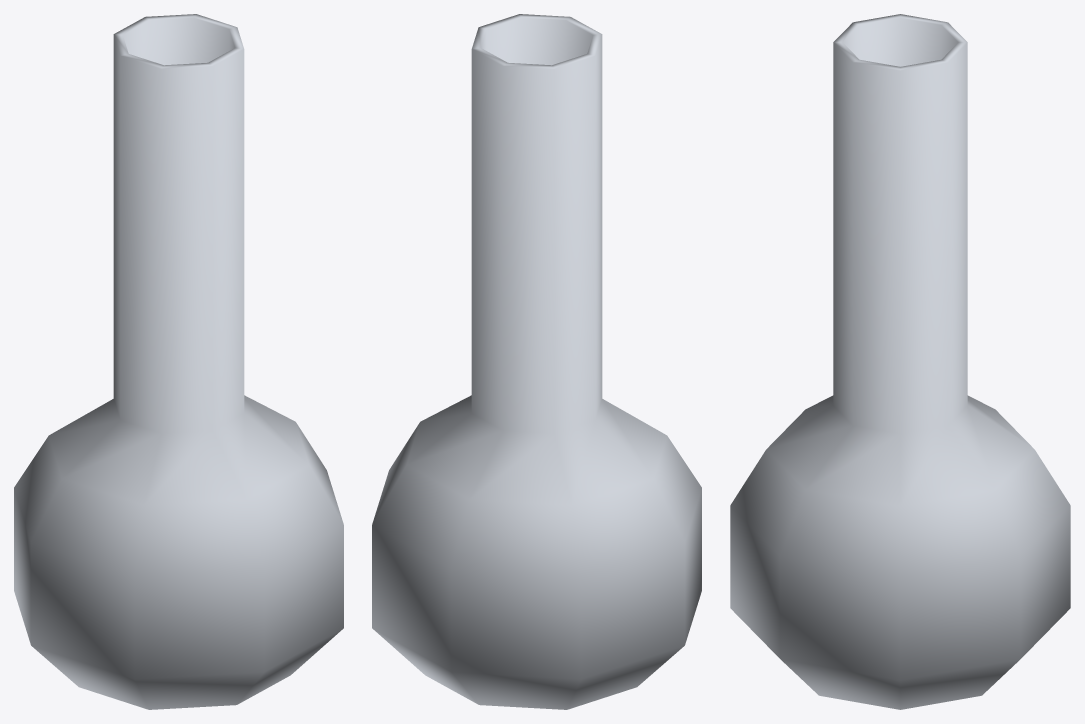
File: bottle_glassware_kjeldahl_flask_large.glb
3 renders of one model, left to right at view 1: azimuth 30°, elevation 25°; view 2: azimuth 150°, elevation 25°; view 3: azimuth 270°, elevation 25°, orthographic.
Parts seen in each view (by area): view 1: bottle_glassware_kjeldahl_flask_large; view 2: bottle_glassware_kjeldahl_flask_large; view 3: bottle_glassware_kjeldahl_flask_large.
Boxes of the visible parts, x1,y1,x2,y2 form: bottle_glassware_kjeldahl_flask_large: [14, 14, 343, 709]; bottle_glassware_kjeldahl_flask_large: [372, 14, 701, 709]; bottle_glassware_kjeldahl_flask_large: [730, 14, 1070, 709].
Size of the model in its own units: 14.4 by 29.54 by 14.4.
Materials: 1 (1 with a texture image).
